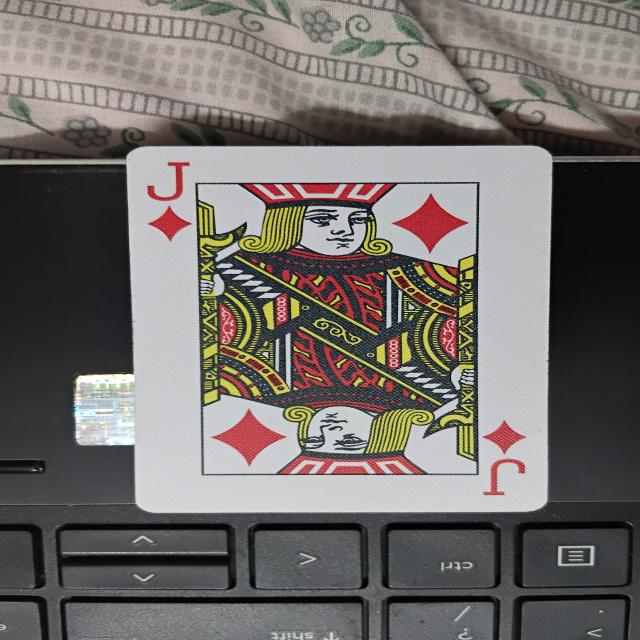JD: (128, 144, 544, 512)
